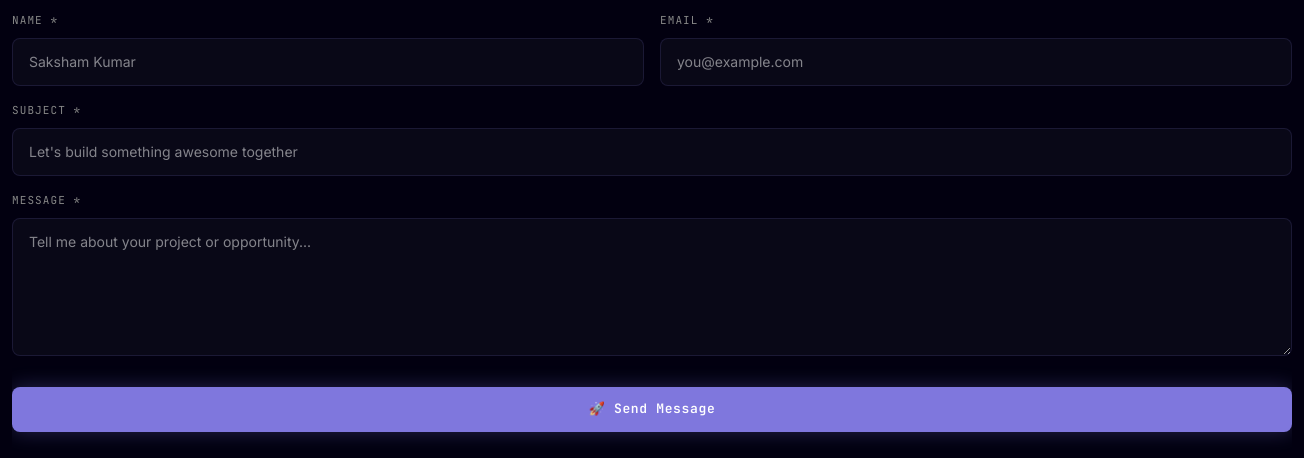
Scenario: ContactForm › should submit form with valid data
Type "John Doe" into the field with placeholder "Saksham Kumar" at x=328, y=62, box [12,38,644,86]
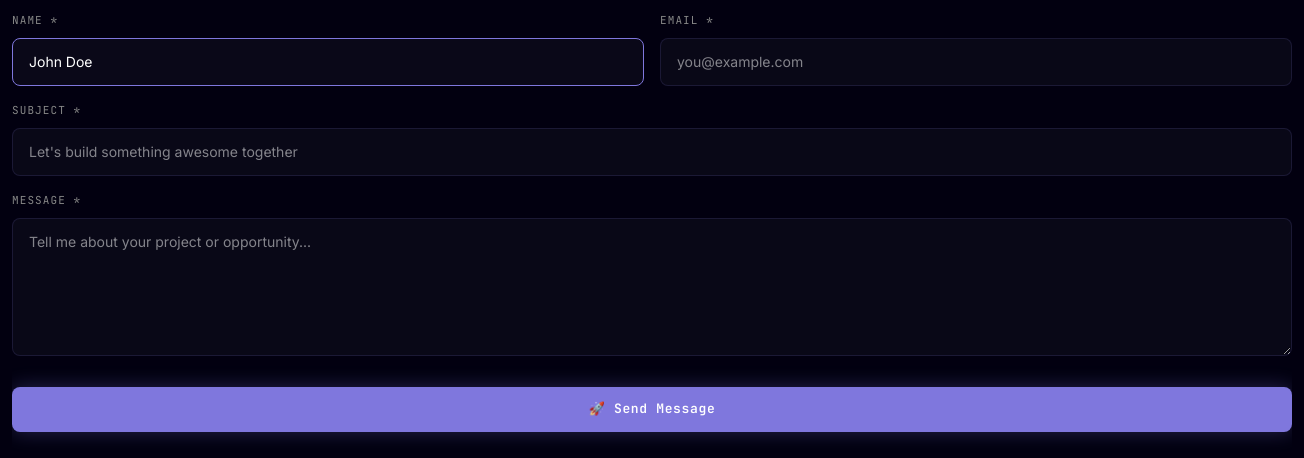
Type "john@test.com" into the field with placeholder "you@example.com" at x=976, y=62, box [660,38,1292,86]
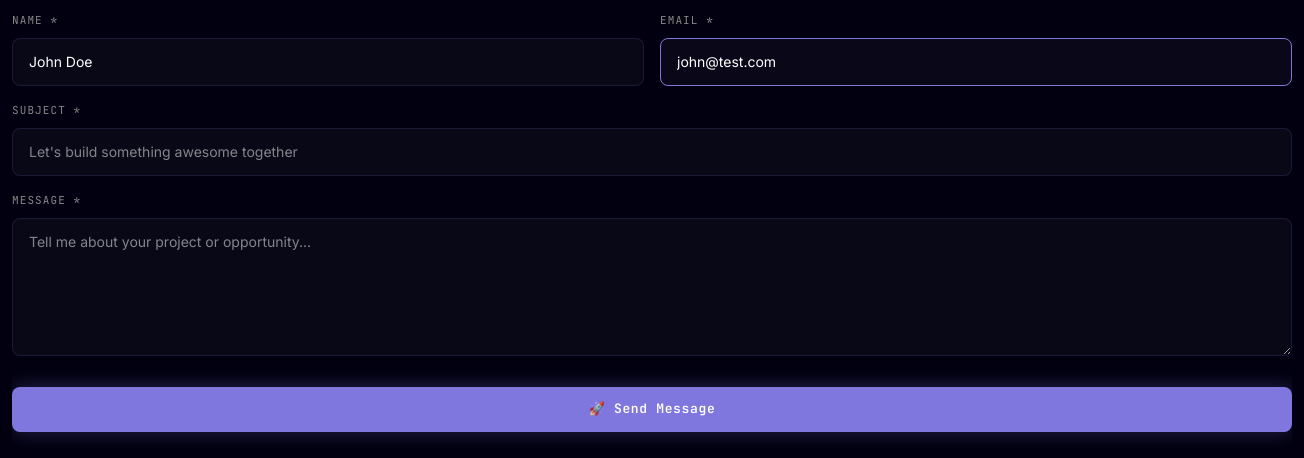
Type "Test Subject" into the field with placeholder "Let's build something awesome together" at x=652, y=152, box [12,128,1292,176]
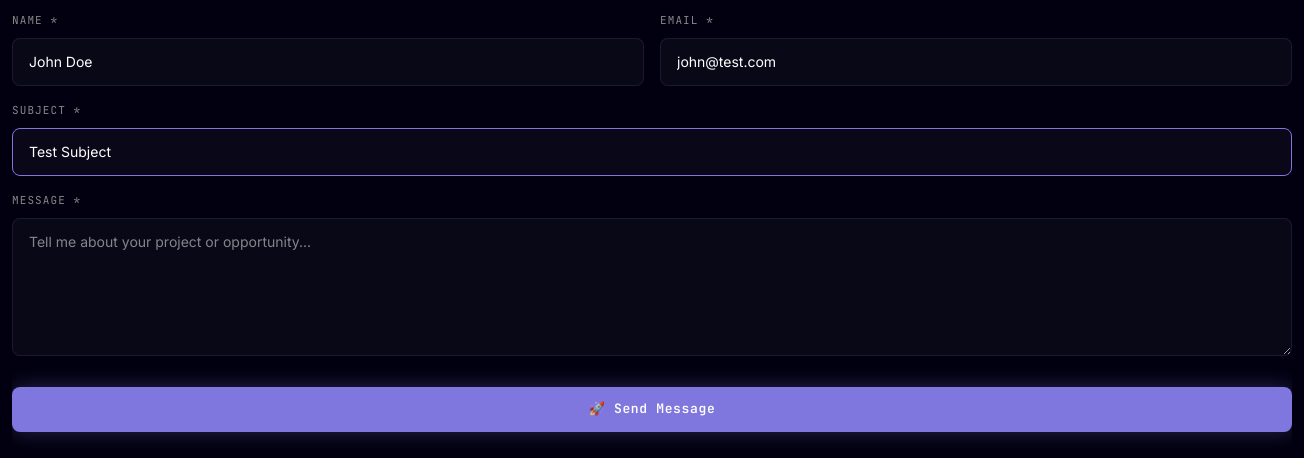
Type "Test message content" into the text box with placeholder "Tell me about your project or opportunity..." at x=652, y=287, box [12,218,1292,356]
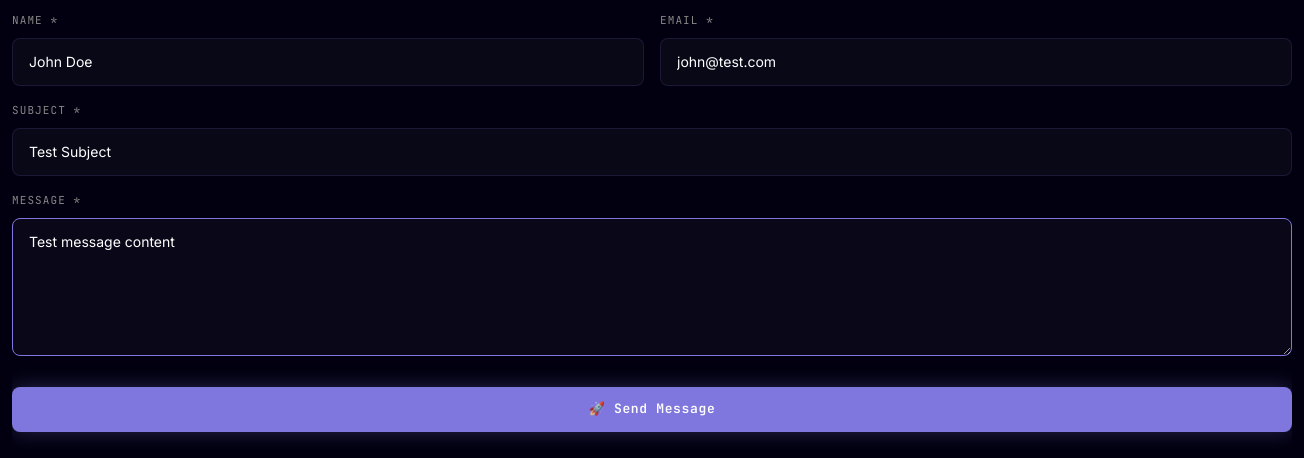
Click the button "🚀 Send Message" at x=652, y=410, box [12,387,1292,432]
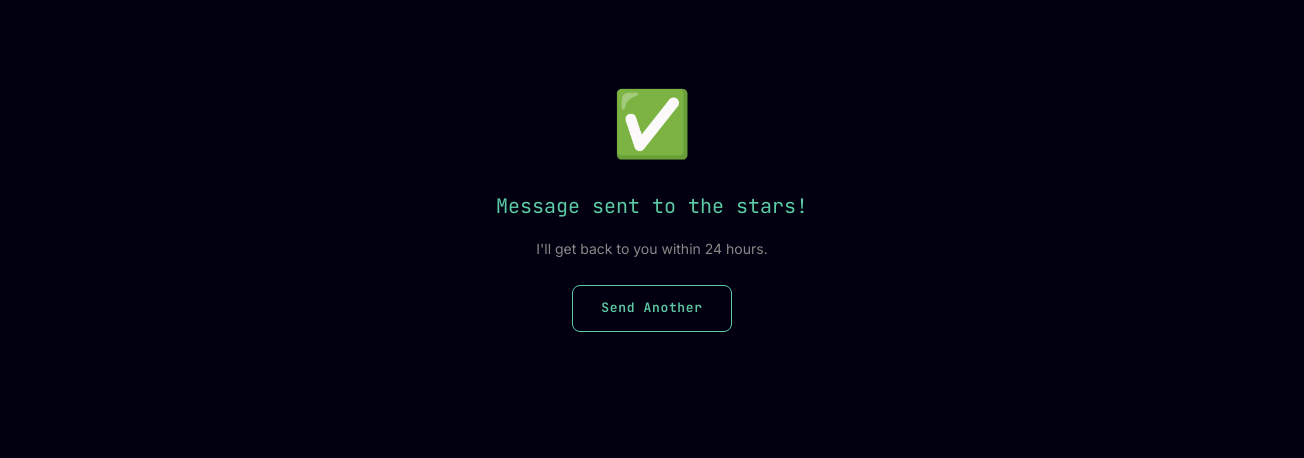
expect the heading "Message sent to the stars!" is shown: met, box [496,190,808,222]
